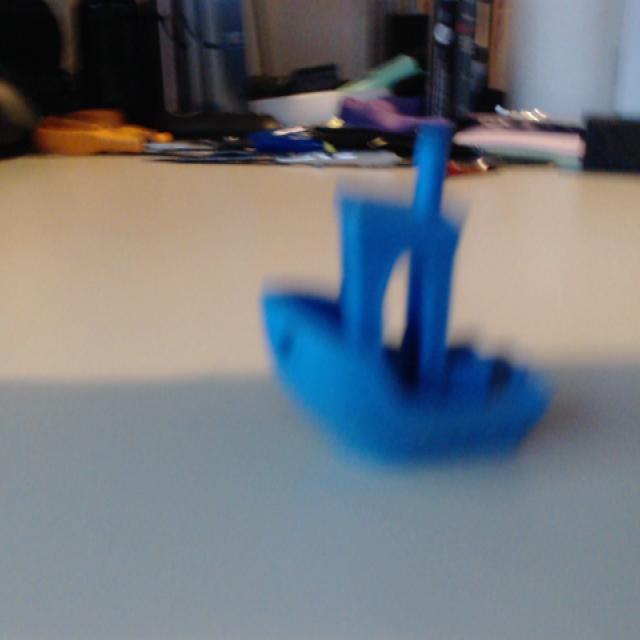benchy: (256, 118, 556, 470)
